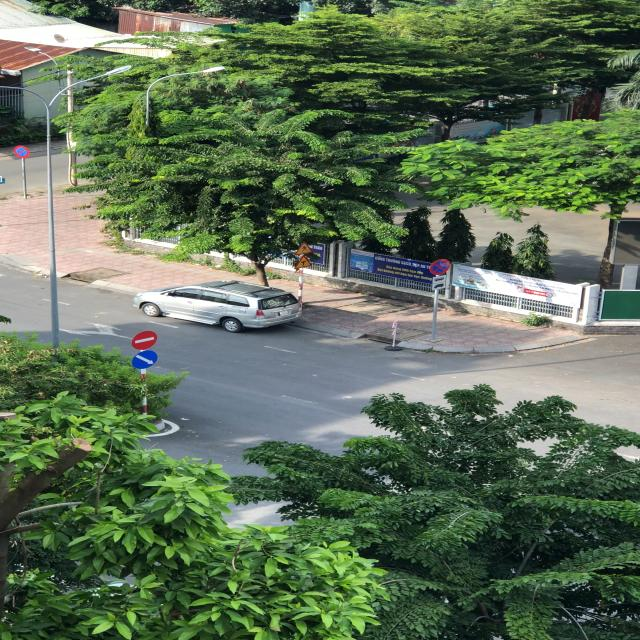Bien bao cam di nguoc chieu: (130, 327, 164, 352)
Bien bao cam dung xe va do xe: (429, 259, 454, 276)
Bien bao duong giao nhau: (294, 254, 314, 270)
Bien bao duong nguoi di bo cat ngang: (293, 241, 318, 254)
Bien bao huong phai di vong chuong ngai vat: (128, 350, 164, 370)
